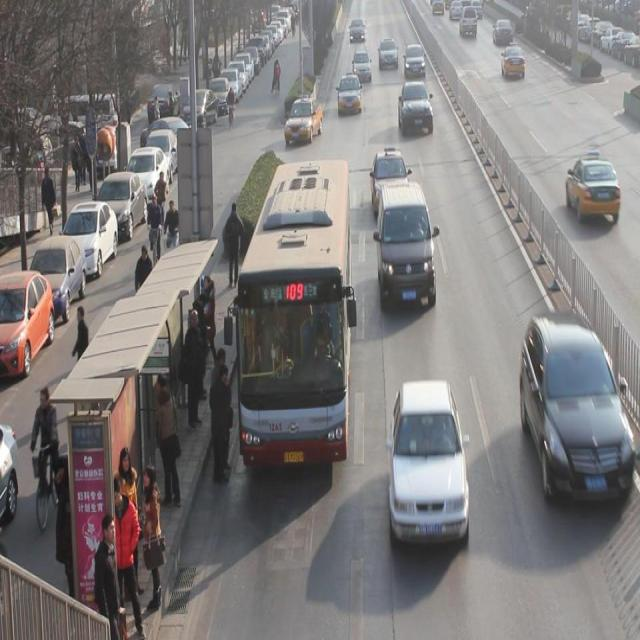car: (519, 310, 640, 505), (388, 380, 470, 540), (566, 149, 621, 223), (371, 148, 410, 212), (284, 94, 324, 144), (399, 81, 433, 136), (339, 75, 362, 115), (502, 41, 525, 80), (404, 44, 426, 79), (379, 38, 398, 70), (353, 52, 372, 81)
truck: (377, 181, 437, 306)
van: (235, 158, 347, 460)
